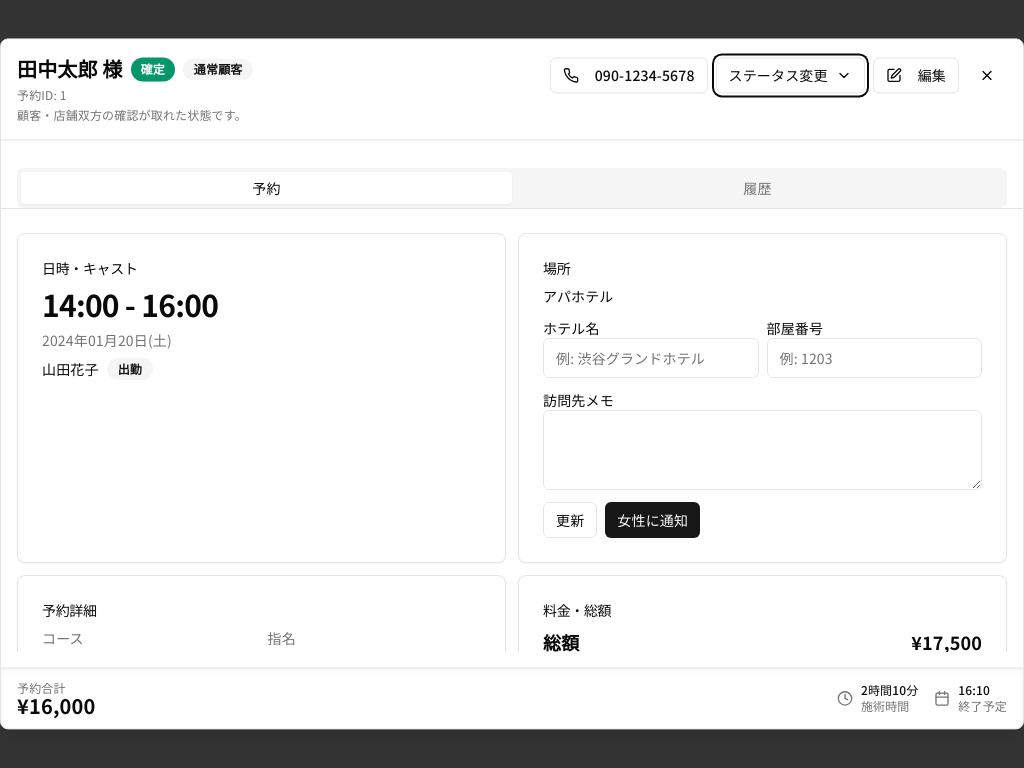
Test: ReservationDialog Edit Mode › matches order creation by offering panel designation and only the selected cast options
This screenshot has width=1024, height=768.
Later steps or results of the test are not shown.
Click the button "編集": (916, 75) [873,57,959,93]
(page scrolled)
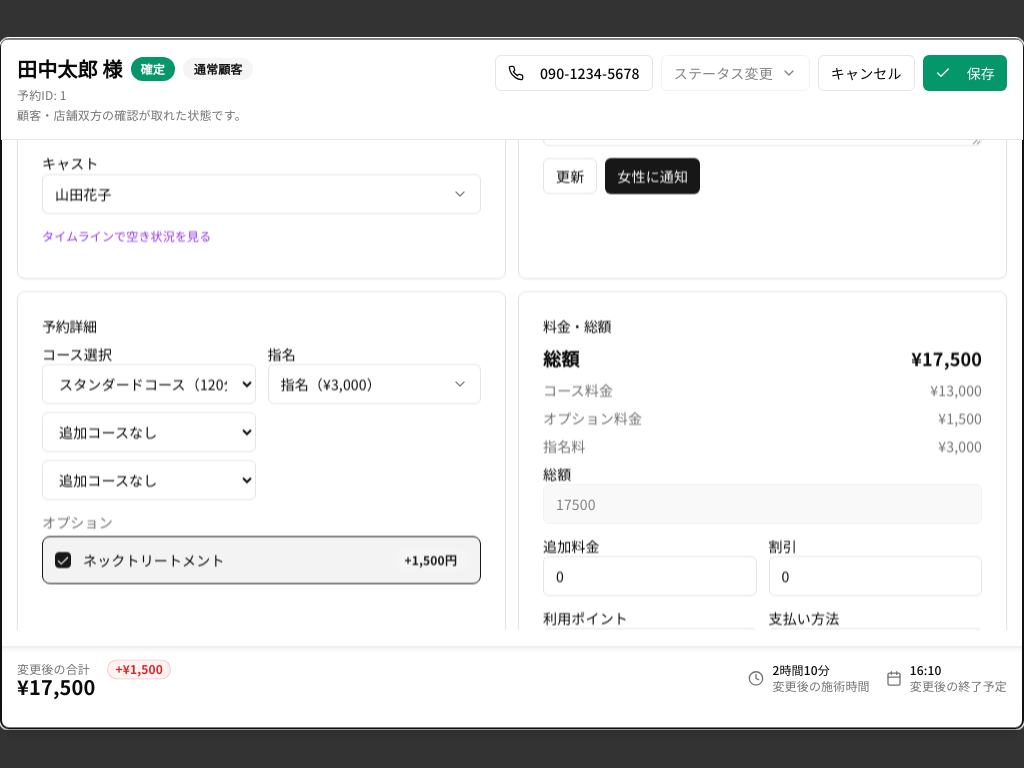
Check: the checkbox named "ネックトリートメント" is shown, box [55,552,71,568]
